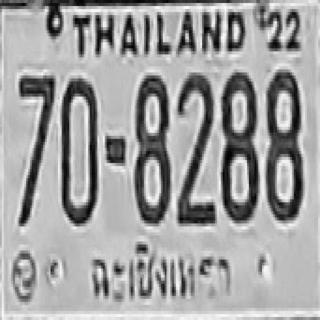N00: (61, 75, 98, 224)
N02: (176, 73, 213, 224)
N07: (17, 73, 54, 224)
N08: (265, 66, 302, 220), (221, 70, 258, 220), (133, 73, 168, 224)
P07: (86, 233, 237, 310)
